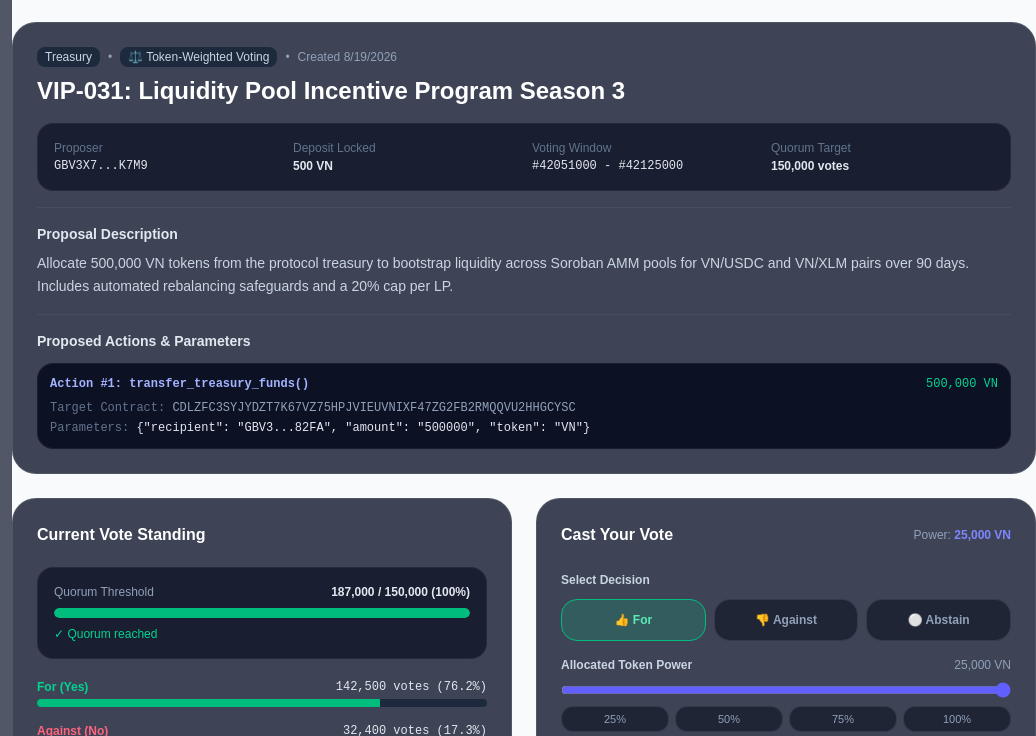
it: ProposalDetail Component › allows selecting vote choice and submitting vote on active proposal
This screenshot has width=1036, height=736.
Click the button "👎 Against": click(786, 620) [714,598,858,640]
(page scrolled)
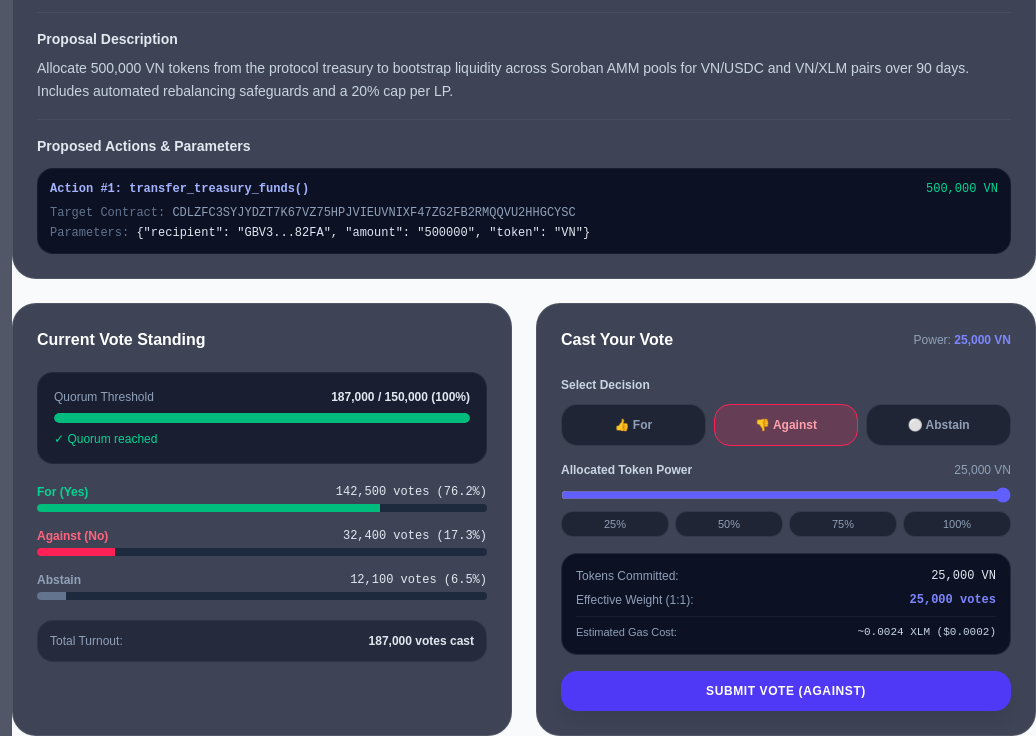
Now the button "Submit Vote (AGAINST)" is shown
Click the button "Submit Vote (AGAINST)": click(786, 691) [561,671,1011,711]
(page scrolled)
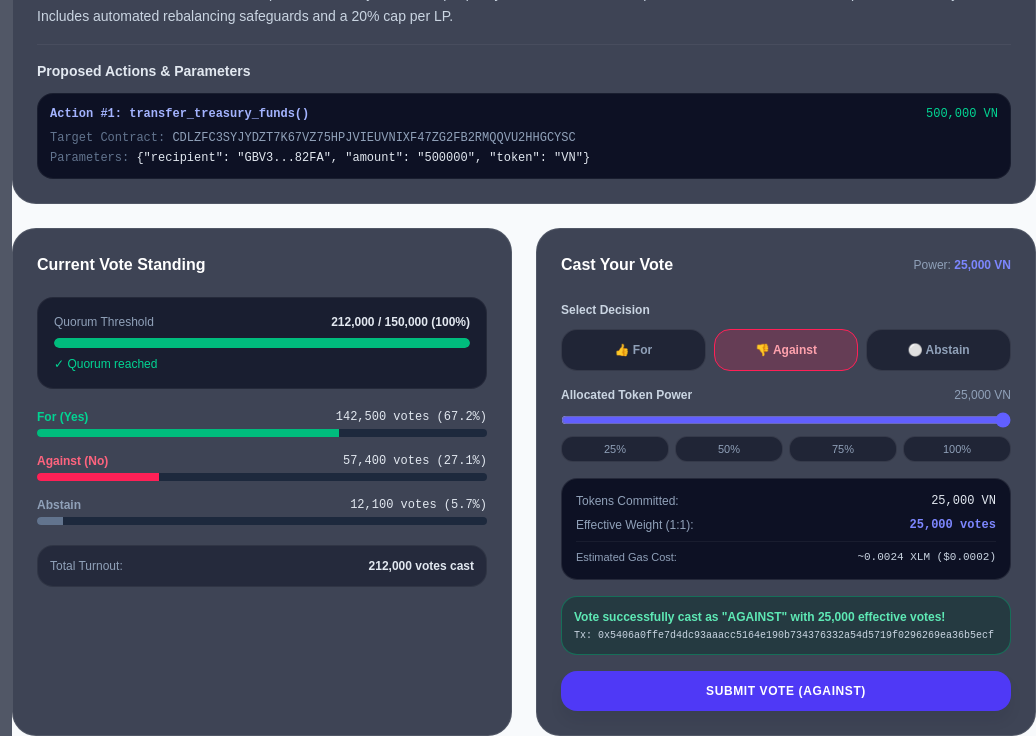
Now the text "Vote successfully cast as \"AGAINST\"" is shown, box [574,610,945,624]
